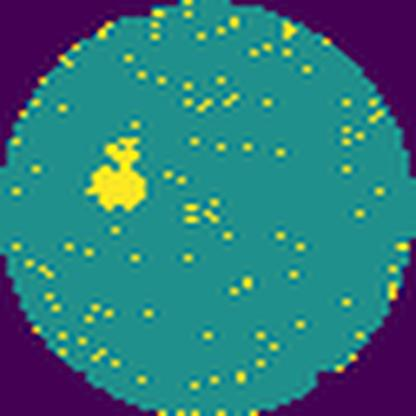Loc: (86, 133, 145, 210)
